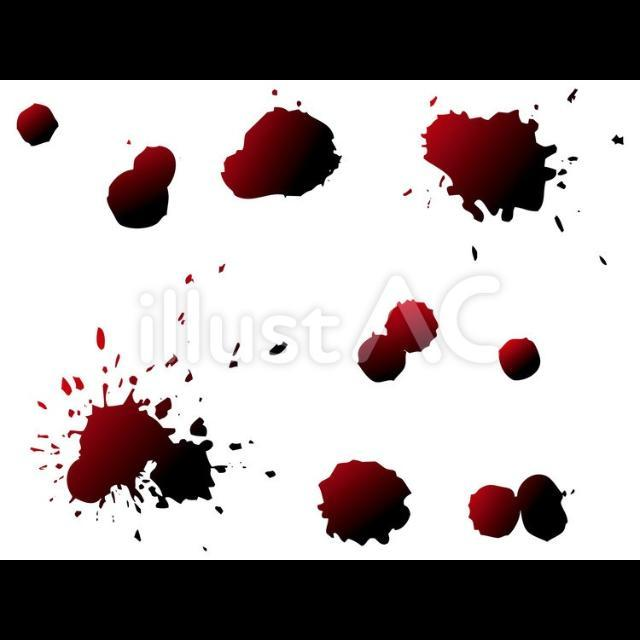blood: (66, 383, 227, 508), (420, 108, 557, 222), (220, 106, 342, 199), (317, 460, 411, 546), (358, 298, 439, 383), (468, 474, 567, 542), (107, 145, 176, 228), (15, 103, 58, 145), (497, 338, 540, 380)
